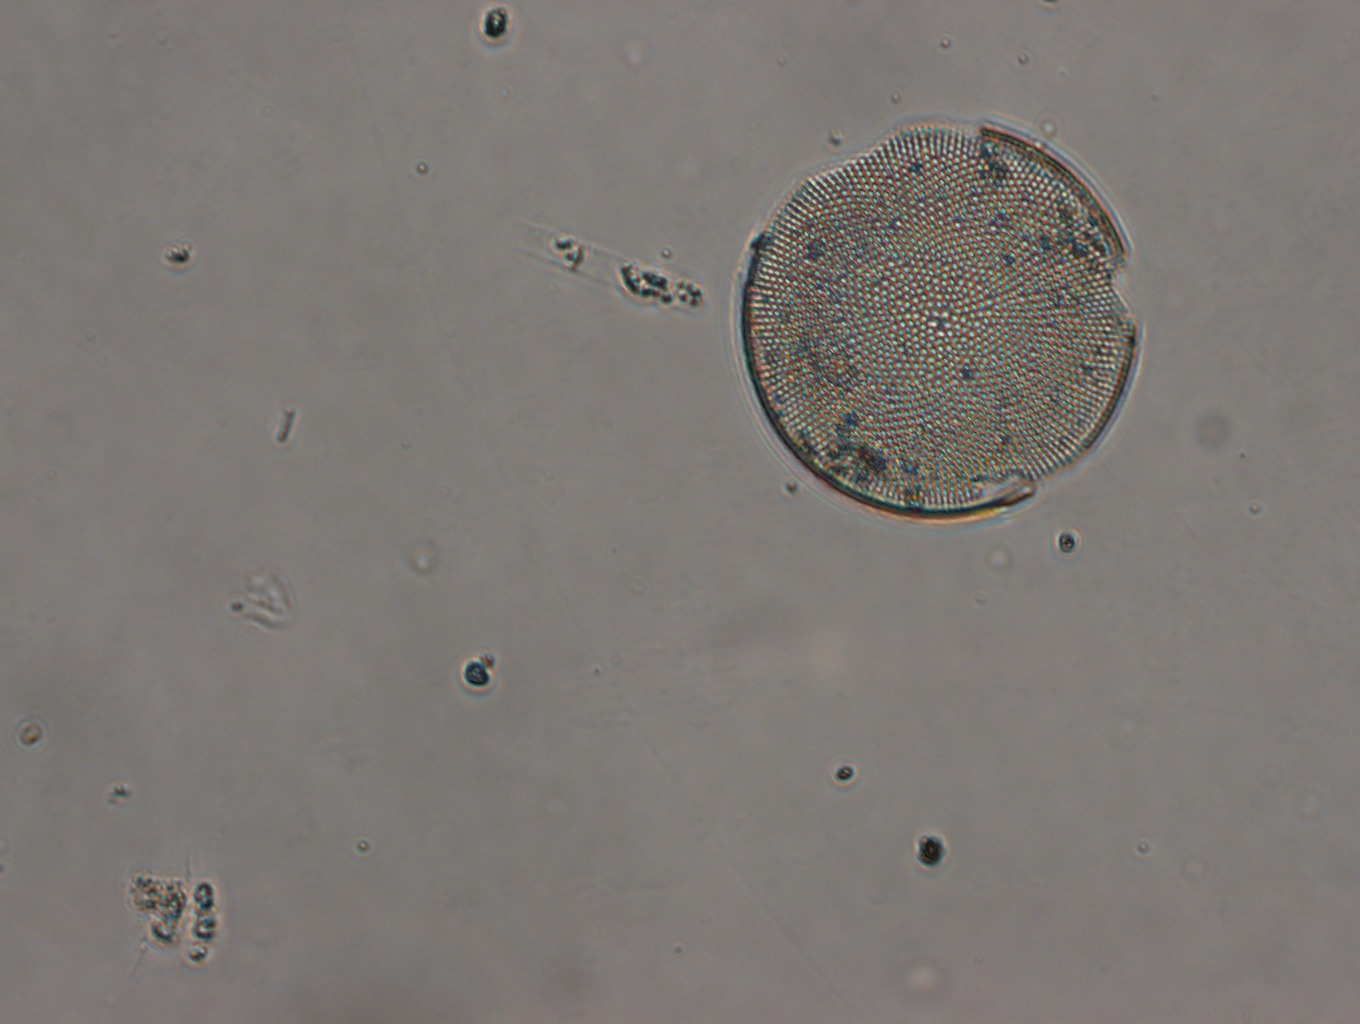coscinodiscus: (736, 118, 1139, 523)
